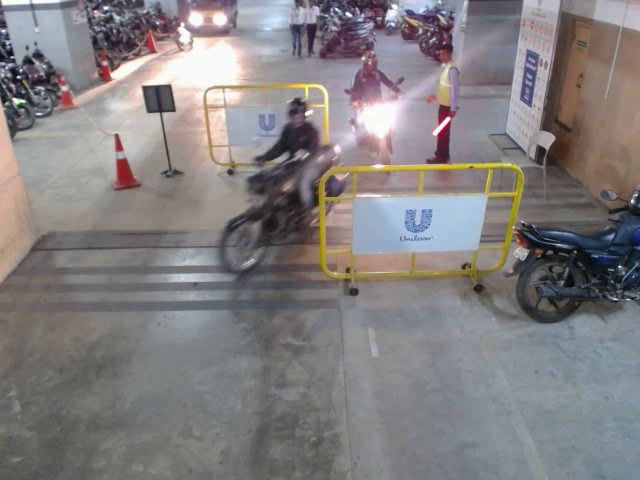with_helmet: (362, 52, 379, 78)
